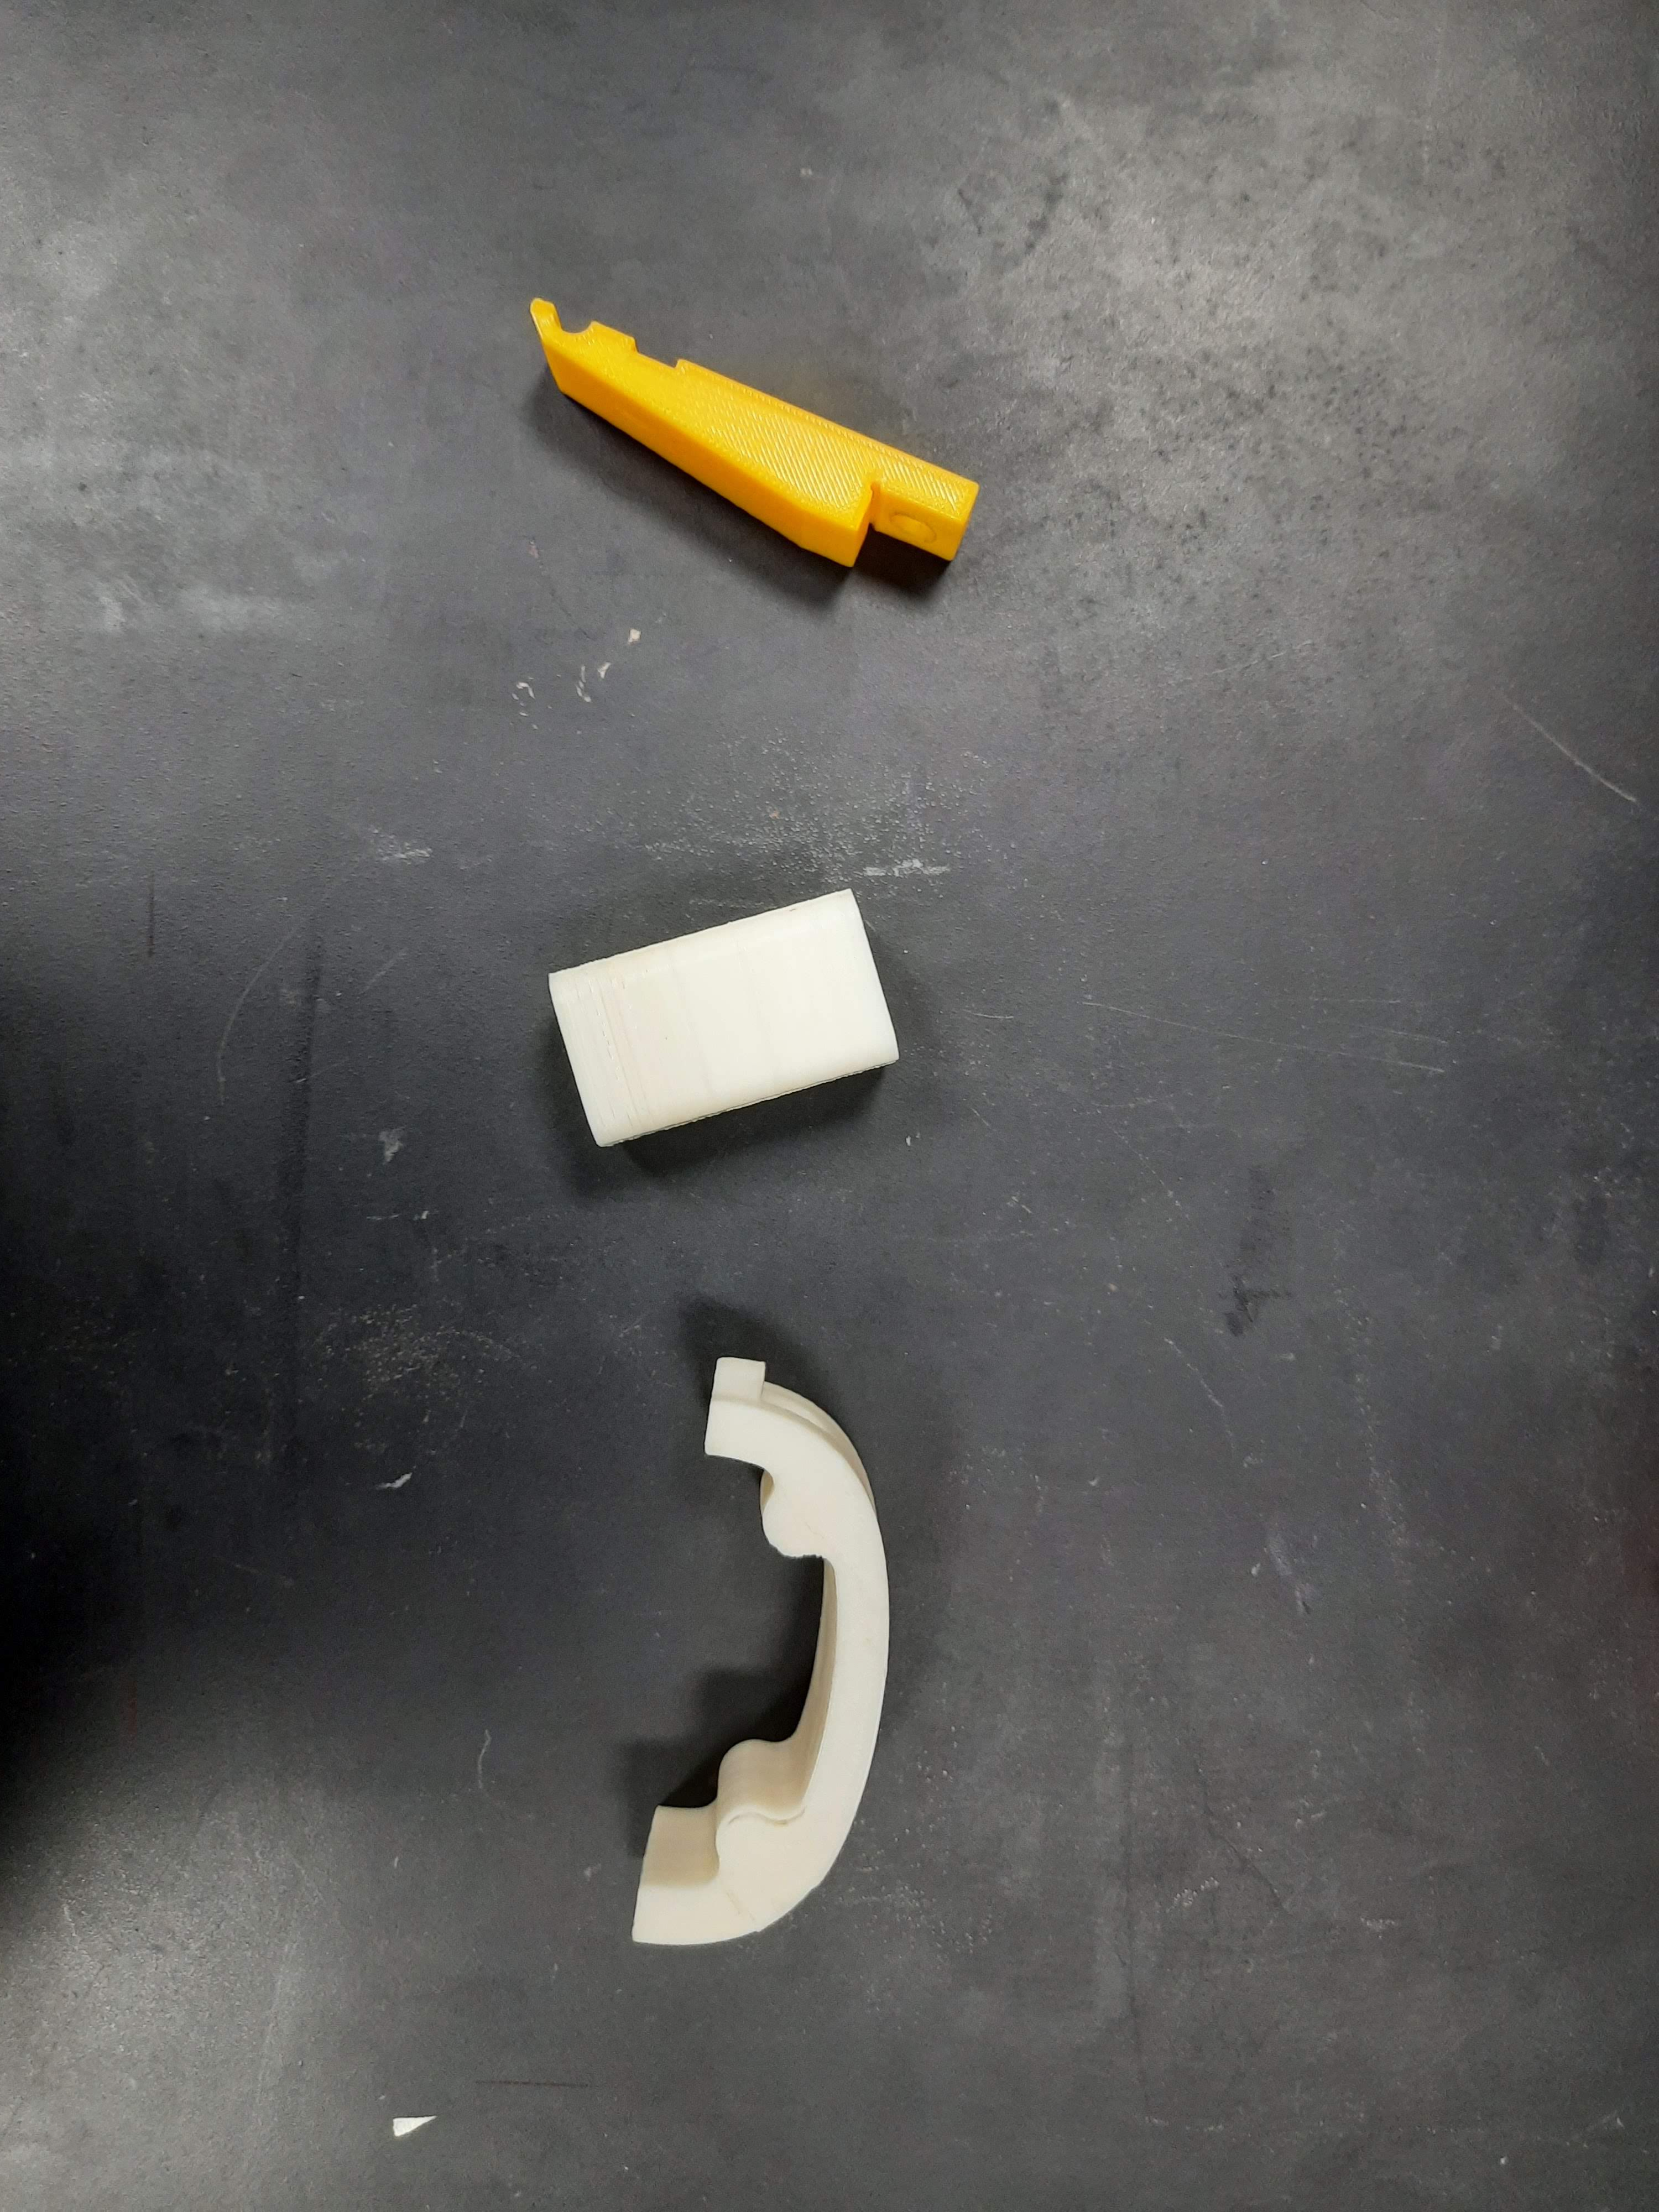ARC: (627, 1348, 941, 1973)
CUBE: (551, 894, 899, 1137)
YELLOW: (469, 282, 985, 603)
